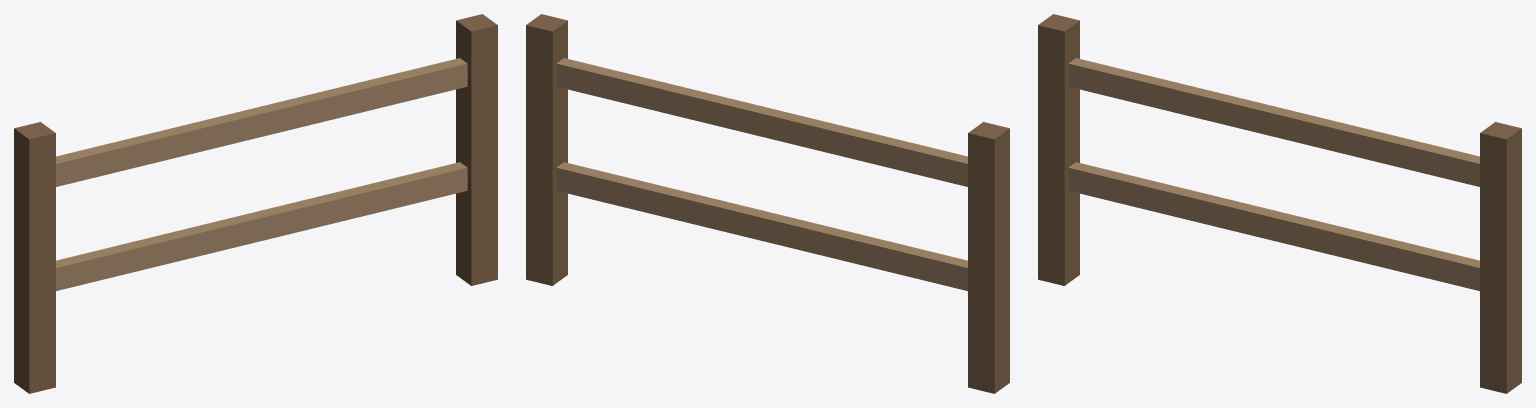
File: Fence.fbx
3 views of the same model, side by side, from view 1: azimuth 30°, elevation 25°; view 2: azimuth 150°, elevation 25°; view 3: azimuth 330°, elevation 25° (orthographic).
Parts seen in each view (by area): view 1: Fence; view 2: Fence; view 3: Fence.
Boxes of the visible parts, box(x1,y1,x2,y2) form: Fence: box(14, 14, 497, 393); Fence: box(526, 14, 1009, 393); Fence: box(1038, 14, 1521, 393).
Size of the model in its own units: 2.12 by 0.12 by 1.1.
